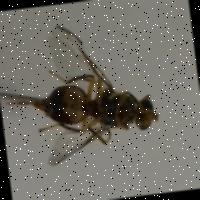Oriental-fruit-fly: (7, 15, 176, 171)
